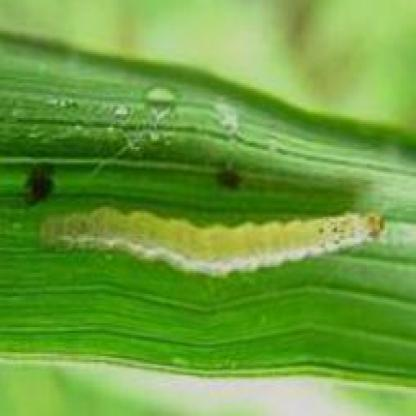leaf-folder: (34, 157, 394, 298)
